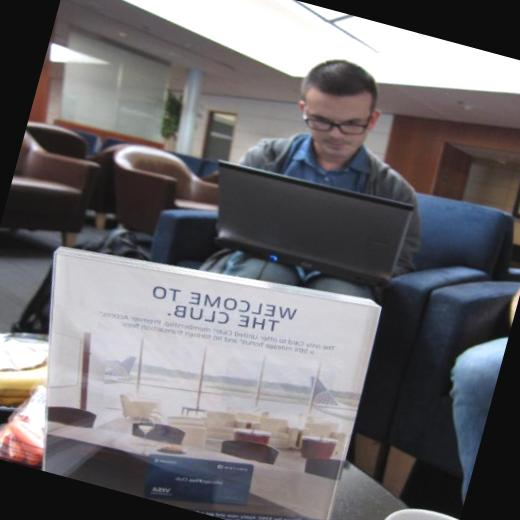Banana: (0, 346, 53, 408)
